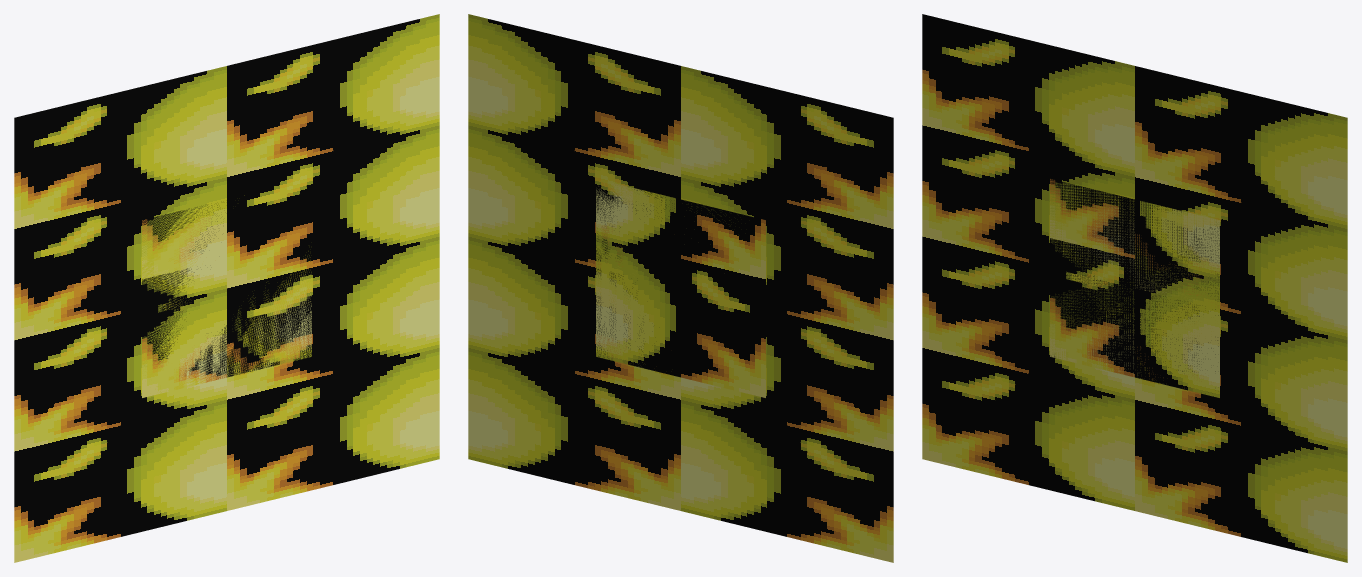
The picture shows the model from 3 angles, left to right: view 1: azimuth 30°, elevation 25°; view 2: azimuth 150°, elevation 25°; view 3: azimuth 330°, elevation 25°; orthographic projection.
Parts seen in each view (by area): view 1: ef_118; view 2: ef_118; view 3: ef_118.
Part boxes in pixels (box(x1,y1,x2,y2)): ef_118: box(14, 14, 439, 562); ef_118: box(468, 14, 893, 562); ef_118: box(922, 14, 1347, 562).
Size of the model in its own units: 1 by 1 by 0.
Materials: 1 (1 with a texture image).
